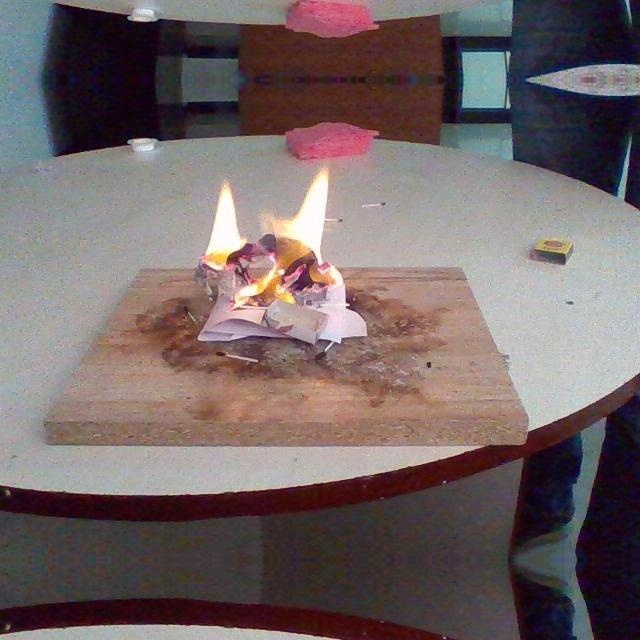fire: (163, 137, 373, 342)
